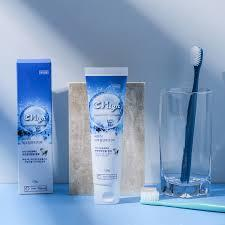toothpaste: (79, 69, 133, 212)
